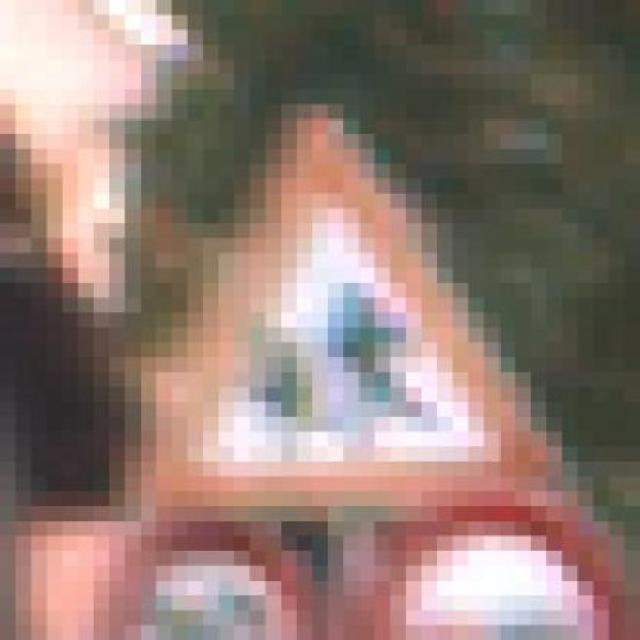Beware of children: (124, 89, 562, 522)
